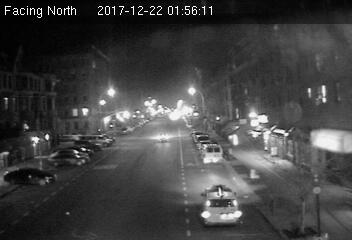car: (200, 186, 246, 230)
truck: (201, 142, 223, 165)
